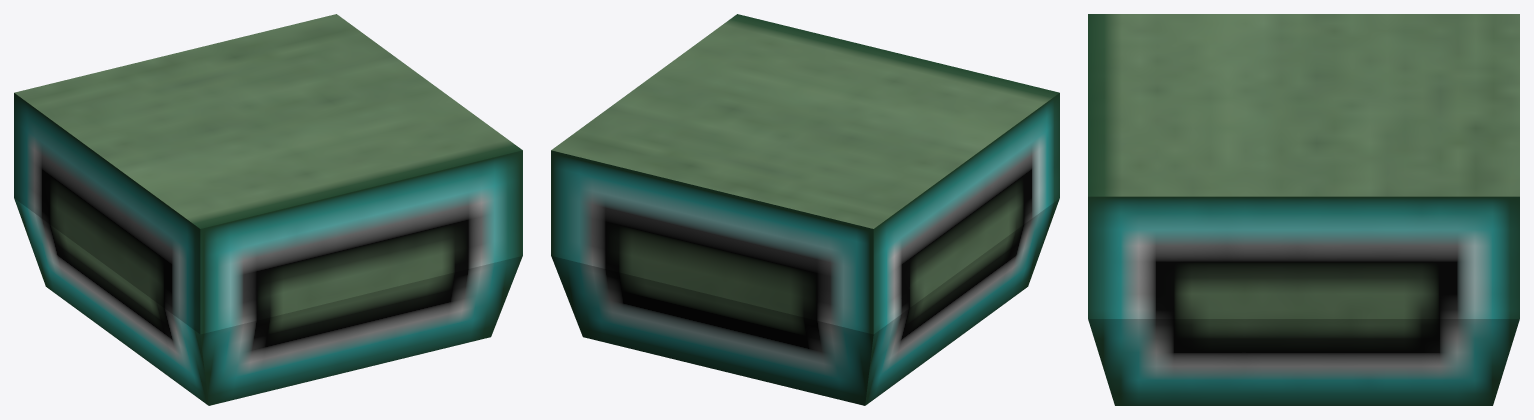
File: SM_SJM_SoroA_01.fbx
3 renders of one model, left to right at view 1: azimuth 30°, elevation 25°; view 2: azimuth 150°, elevation 25°; view 3: azimuth 270°, elevation 25°, orthographic. The views are drawn at different scales.
Parts seen in each view (by area): view 1: SM_SJM_SoroA_01; view 2: SM_SJM_SoroA_01; view 3: SM_SJM_SoroA_01.
Boxes of the visible parts, x1,y1,x2,y2 form: SM_SJM_SoroA_01: [14, 14, 522, 405]; SM_SJM_SoroA_01: [551, 14, 1059, 405]; SM_SJM_SoroA_01: [1088, 14, 1519, 405].
Size of the model in its own units: 16 by 16 by 9.02.
1 material, 1 textured.
